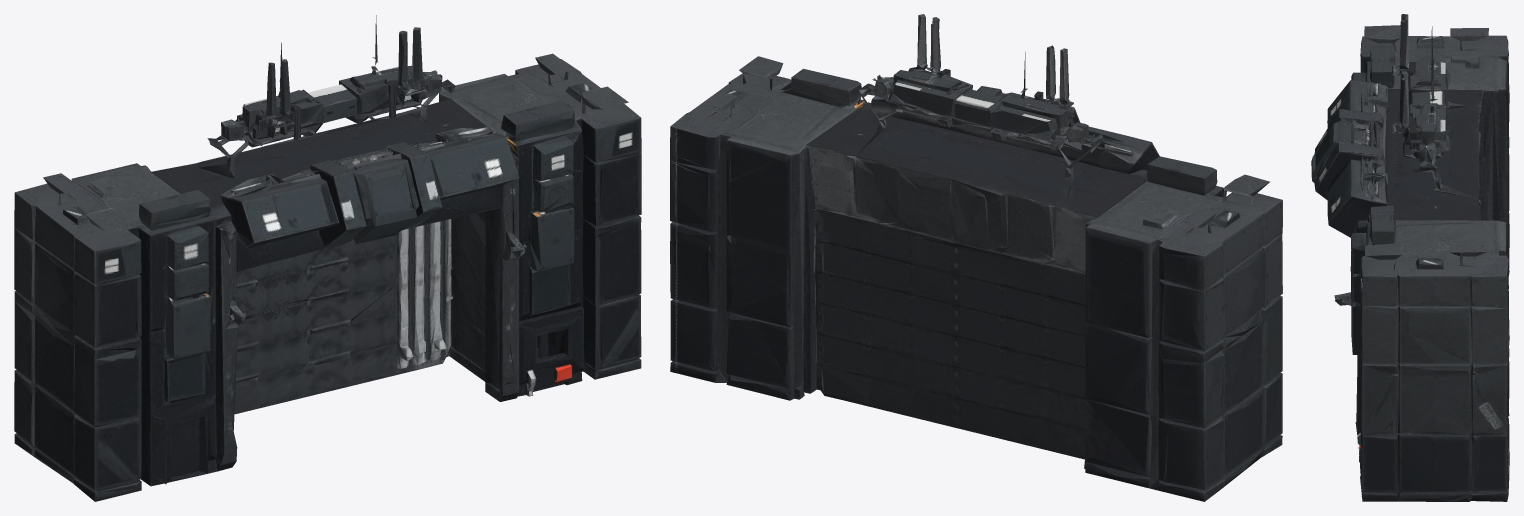
Rendered from b_hangar.glb.
The picture shows the model from 3 angles, left to right: view 1: azimuth 30°, elevation 25°; view 2: azimuth 150°, elevation 25°; view 3: azimuth 270°, elevation 25°; orthographic projection. The views are drawn at different scales.
Bounding box in the file's own units: 1.9 × 1.27 × 0.6583.
1 material, 1 textured.
